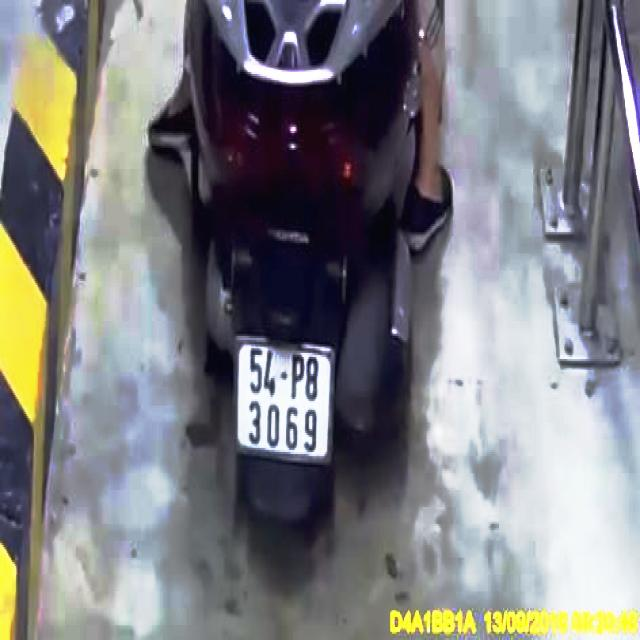license_plate: (240, 339, 335, 462)
